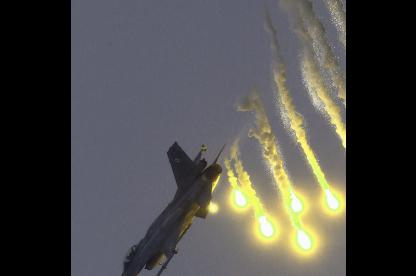F14: (110, 140, 226, 275)
